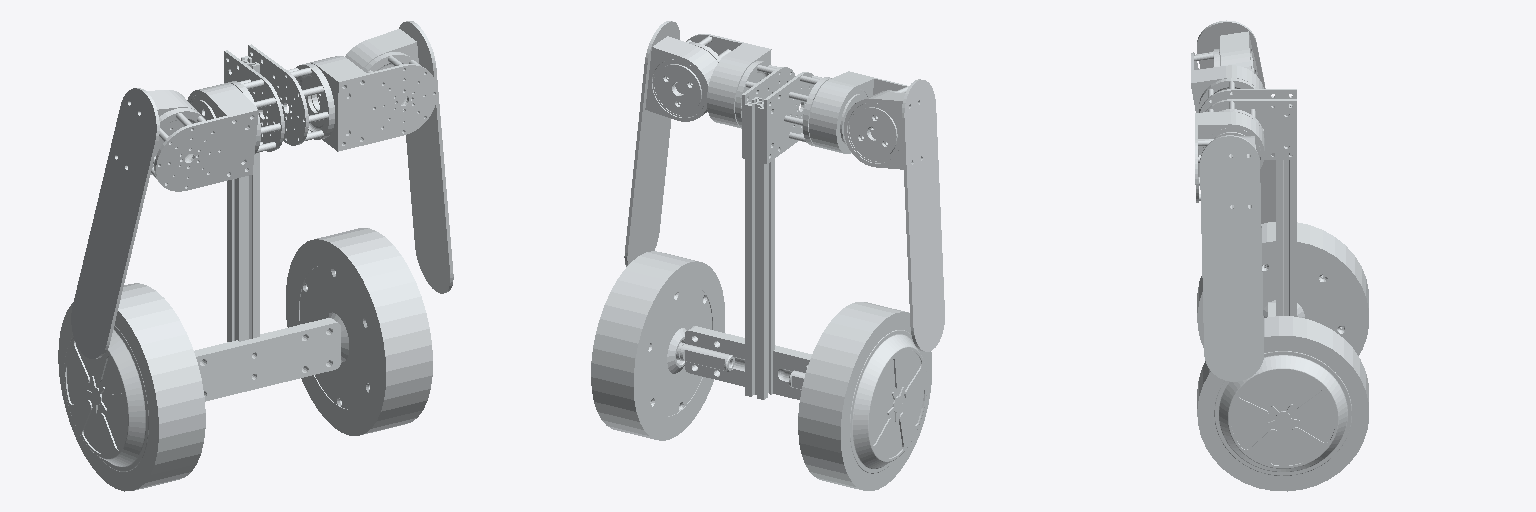
URDF robot description (RON):
<?xml version="1.0" encoding="utf-8"?>
<!-- This URDF was automatically created by SolidWorks to URDF Exporter! Originally created by [author] ([email redacted]) 
     Commit Version: 1.6.0-4-g7f85cfe  Build Version: 1.6.7995.38578
     For more information, please see http://wiki.ros.org/sw_urdf_exporter -->
<robot
  name="RON">
  <link
    name="base_link">
    <inertial>
      <origin
        xyz="-3.1396E-17 -0.0094794 -0.050296"
        rpy="0 0 0" />
      <mass
        value="2.8455" />
      <inertia
        ixx="0.0042429"
        ixy="-5.6856E-08"
        ixz="-3.3034E-07"
        iyy="0.0035837"
        iyz="-1.1083E-07"
        izz="0.0024098" />
    </inertial>
    <visual>
      <origin
        xyz="0 0 0"
        rpy="0 0 0" />
      <geometry>
        <mesh
          filename="./meshes/base_link.obj" />
      </geometry>
      <material
        name="">
        <color
          rgba="0.89804 0.91765 0.92941 1" />
      </material>
    </visual>
    <collision>
      <origin
        xyz="0 0 0"
        rpy="0 0 0" />
      <geometry>
        <mesh
          filename="./meshes/base_link.obj" />
      </geometry>
    </collision>
  </link>
  <link
    name="left_motor">
    <inertial>
      <origin
        xyz="-4.2401E-09 -0.022611 -1.238E-08"
        rpy="0 0 0" />
      <mass
        value="1.1606" />
      <inertia
        ixx="0.0024571"
        ixy="-5.0792E-11"
        ixz="-4.1332E-10"
        iyy="0.0045348"
        iyz="-1.8299E-10"
        izz="0.0024571" />
    </inertial>
    <visual>
      <origin
        xyz="0 0 0"
        rpy="0 0 0" />
      <geometry>
        <mesh
          filename="./meshes/left_motor.obj" />
      </geometry>
      <material
        name="">
        <color
          rgba="0.89804 0.91765 0.92941 1" />
      </material>
    </visual>
    <collision>
      <origin
        xyz="0 0 0"
        rpy="0 0 0" />
      <geometry>
        <mesh
          filename="./meshes/left_motor.obj" />
      </geometry>
    </collision>
  </link>
  <joint
    name="left_motor_joint"
    type="continuous">
    <origin
      xyz="0.0918 0 -0.105"
      rpy="0 -1.554 1.5708" />
    <parent
      link="base_link" />
    <child
      link="left_motor" />
    <axis
      xyz="0 1 0" />
    <limit effort="100" />
  </joint>
  <link
    name="right_motor">
    <inertial>
      <origin
        xyz="7.03970168269841E-09 -0.0226107883538105 1.10311139270378E-08"
        rpy="0 0 0" />
      <mass
        value="1.16062119044462" />
      <inertia
        ixx="0.00245708890688505"
        ixy="9.25077801470099E-11"
        ixz="-2.25535481119372E-10"
        iyy="0.0045347876463964"
        iyz="1.65850798252249E-10"
        izz="0.00245708983584218" />
    </inertial>
    <visual>
      <origin
        xyz="0 0 0"
        rpy="0 0 0" />
      <geometry>
        <mesh
          filename="./meshes/right_motor.obj" />
      </geometry>
      <material
        name="">
        <color
          rgba="0.898039215686275 0.917647058823529 0.929411764705882 1" />
      </material>
    </visual>
    <collision>
      <origin
        xyz="0 0 0"
        rpy="0 0 0" />
      <geometry>
        <mesh
          filename="./meshes/right_motor.obj" />
      </geometry>
    </collision>
  </link>
  <joint
    name="right_motor_joint"
    type="continuous">
    <origin
      xyz="-0.0918 0 -0.105"
      rpy="-3.1416 1.554 1.5708" />
    <parent
      link="base_link" />
    <child
      link="right_motor" />
    <axis
      xyz="0 1 0" />
    <limit effort="100" />
  </joint>
  <transmission name="left_motor_effort">
    <type>hardware_interface/SimpleTransmission</type>
    <joint name="left_motor_joint">
        <hardwareInterface>EffortJointInterface</hardwareInterface>
    </joint>
    <actuator name="left_motor">
        <mechanicalReduction>1</mechanicalReduction>
        <hardwareInterface>EffortJointInterface</hardwareInterface>
    </actuator>
  </transmission>
  <transmission name="right_motor_effort">
    <type>hardware_interface/SimpleTransmission</type>
    <joint name="right_motor_joint">
        <hardwareInterface>EffortJointInterface</hardwareInterface>
    </joint>
    <actuator name="right_motor">
        <mechanicalReduction>1</mechanicalReduction>
        <hardwareInterface>EffortJointInterface</hardwareInterface>
    </actuator>
  </transmission> 
  <link
    name="arm_left_1">
    <inertial>
      <origin
        xyz="-0.003584 -8.3267E-17 -0.047076"
        rpy="0 0 0" />
      <mass
        value="0.38358" />
      <inertia
        ixx="0.0002331"
        ixy="-3.5893E-19"
        ixz="-3.534E-08"
        iyy="0.00015575"
        iyz="-6.4138E-20"
        izz="0.00019159" />
    </inertial>
    <visual>
      <origin
        xyz="0 0 0"
        rpy="0 0 0" />
      <geometry>
        <mesh
          filename="./meshes/arm_left_1.obj" />
      </geometry>
      <material
        name="">
        <color
          rgba="0.89804 0.91765 0.92941 1" />
      </material>
    </visual>
    <collision>
      <origin
        xyz="0 0 0"
        rpy="0 0 0" />
      <geometry>
        <mesh
          filename="./meshes/arm_left_1.obj" />
      </geometry>
    </collision>
  </link>
  <joint
    name="arm_left_joint_1"
    type="revolute">
    <origin
      xyz="0.040425 -0.0515 0.15"
      rpy="-1.5708 -0.021345 1.5708" />
    <parent
      link="base_link" />
    <child
      link="arm_left_1" />
    <axis
      xyz="0 0 1" />
    <limit
      lower="-3.1416"
      upper="3.1416"
      effort="100"
      velocity="100" />
  </joint>
  <link
    name="arm_left_2">
    <inertial>
      <origin
        xyz="-0.015 0.023411 -0.0058653"
        rpy="0 0 0" />
      <mass
        value="0.16489" />
      <inertia
        ixx="0.00032158"
        ixy="-7.85E-19"
        ixz="-3.534E-08"
        iyy="7.5342E-05"
        iyz="1.6634E-07"
        izz="0.00035599" />
    </inertial>
    <visual>
      <origin
        xyz="0 0 0"
        rpy="0 0 0" />
      <geometry>
        <mesh
          filename="./meshes/arm_left_2.obj" />
      </geometry>
      <material
        name="">
        <color
          rgba="0.89804 0.91765 0.92941 1" />
      </material>
    </visual>
    <collision>
      <origin
        xyz="0 0 0"
        rpy="0 0 0" />
      <geometry>
        <mesh
          filename="./meshes/arm_left_2.obj" />
      </geometry>
    </collision>
  </link>
  <joint
    name="arm_left_joint_2"
    type="revolute">
    <origin
      xyz="0 0 -0.065"
      rpy="-1.5708 -1.4749 1.5708" />
    <parent
      link="arm_left_1" />
    <child
      link="arm_left_2" />
    <axis
      xyz="0 0 1" />
    <limit
      lower="-3.1416"
      upper="3.1416"
      effort="0"
      velocity="0" />
  </joint>
  <link
    name="arm_right_1">
    <inertial>
      <origin
        xyz="-0.003584 5.5511E-17 0.047102"
        rpy="0 0 0" />
      <mass
        value="0.38358" />
      <inertia
        ixx="0.0002331"
        ixy="1.8635E-20"
        ixz="-3.534E-08"
        iyy="0.00015575"
        iyz="-3.6272E-20"
        izz="0.00019159" />
    </inertial>
    <visual>
      <origin
        xyz="0 0 0"
        rpy="0 0 0" />
      <geometry>
        <mesh
          filename="./meshes/arm_right_1.obj" />
      </geometry>
      <material
        name="">
        <color
          rgba="0.89804 0.91765 0.92941 1" />
      </material>
    </visual>
    <collision>
      <origin
        xyz="0 0 0"
        rpy="0 0 0" />
      <geometry>
        <mesh
          filename="./meshes/arm_right_1.obj" />
      </geometry>
    </collision>
  </link>
  <joint
    name="arm_right_joint_1"
    type="revolute">
    <origin
      xyz="-0.040425 -0.0515 0.15"
      rpy="-1.5708 -0.16528 1.5708" />
    <parent
      link="base_link" />
    <child
      link="arm_right_1" />
    <axis
      xyz="0 0 1" />
    <limit
      lower="-3.1416"
      upper="3.1416"
      effort="0"
      velocity="0" />
  </joint>
  <link
    name="arm_right_2">
    <inertial>
      <origin
        xyz="-0.015 0.023411 0.0059246"
        rpy="0 0 0" />
      <mass
        value="0.16489" />
      <inertia
        ixx="0.00032158"
        ixy="7.6206E-20"
        ixz="-3.534E-08"
        iyy="7.5342E-05"
        iyz="-1.6634E-07"
        izz="0.00035599" />
    </inertial>
    <visual>
      <origin
        xyz="0 0 0"
        rpy="0 0 0" />
      <geometry>
        <mesh
          filename="./meshes/arm_right_2.obj" />
      </geometry>
      <material
        name="">
        <color
          rgba="0.89804 0.91765 0.92941 1" />
      </material>
    </visual>
    <collision>
      <origin
        xyz="0 0 0"
        rpy="0 0 0" />
      <geometry>
        <mesh
          filename="./meshes/arm_right_2.obj" />
      </geometry>
    </collision>
  </link>
  <joint
    name="arm_right_joint_2"
    type="revolute">
    <origin
      xyz="0 0 0.065"
      rpy="1.5708 1.4281 1.5708" />
    <parent
      link="arm_right_1" />
    <child
      link="arm_right_2" />
    <axis
      xyz="0 0 1" />
    <limit
      lower="-3.1416"
      upper="3.1416"
      effort="0"
      velocity="0" />
  </joint>
</robot>

--- What the picture shows (computed from the rendered views, not written in the file) ---
3 views of the same robot in one strip: view 1: azimuth 30°, elevation 25°; view 2: azimuth 150°, elevation 25°; view 3: azimuth 270°, elevation 25° (orthographic).
Model RON with 7 links and 6 joints (4 revolute, 2 continuous), rooted at base_link, posed all joints at 0.
Visible links, largest first — view 1: left_motor, right_motor, base_link, arm_right_2, arm_left_1, arm_right_1, arm_left_2; view 2: right_motor, base_link, left_motor, arm_right_2, arm_left_2, arm_left_1, arm_right_1; view 3: left_motor, arm_left_2, right_motor, base_link, arm_right_2, arm_left_1, arm_right_1.
Boxes of the visible links, x1,y1,x2,y2 form: left_motor: (286, 228, 432, 435); right_motor: (58, 283, 205, 491); base_link: (190, 44, 340, 401); arm_right_2: (71, 88, 197, 358); arm_left_1: (310, 52, 437, 151); arm_right_1: (151, 83, 258, 191); arm_left_2: (345, 21, 453, 293); right_motor: (798, 302, 931, 490); base_link: (676, 61, 867, 399); left_motor: (591, 251, 724, 440); arm_right_2: (844, 79, 944, 351); arm_left_2: (624, 21, 717, 266); arm_left_1: (652, 34, 771, 128); arm_right_1: (809, 71, 908, 162); left_motor: (1197, 316, 1368, 491); arm_left_2: (1200, 135, 1263, 381); right_motor: (1197, 222, 1368, 355); base_link: (1199, 78, 1296, 316); arm_right_2: (1197, 20, 1275, 223); arm_left_1: (1195, 112, 1264, 202); arm_right_1: (1191, 48, 1263, 112).
Size in the robot's own frame: 0.3331 by 0.1786 by 0.3931 metres.
Meshes: 7 distinct files referenced, 7 mesh visuals loaded (7 OBJ).
